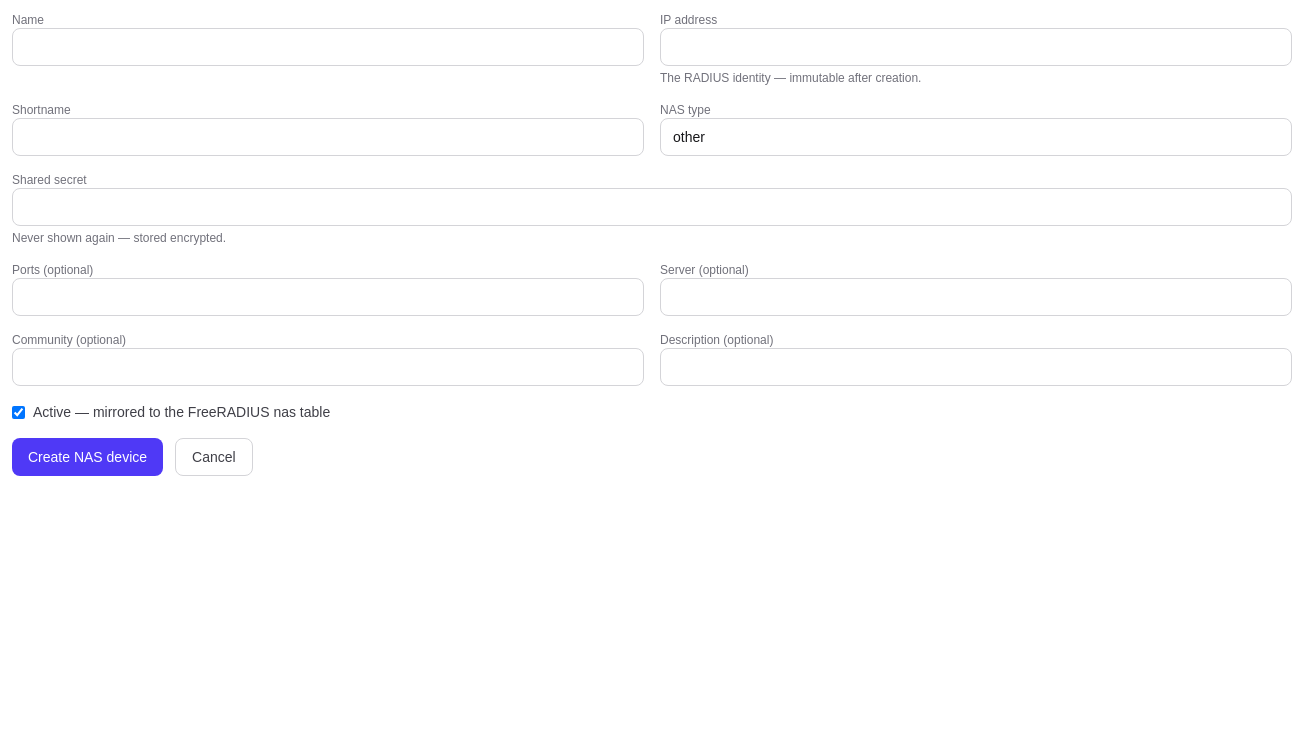
Test: NasDeviceForm (create) › validates required fields before submitting
Click the button "Create NAS device" at {"x": 88, "y": 457}, box [12,438,163,476]
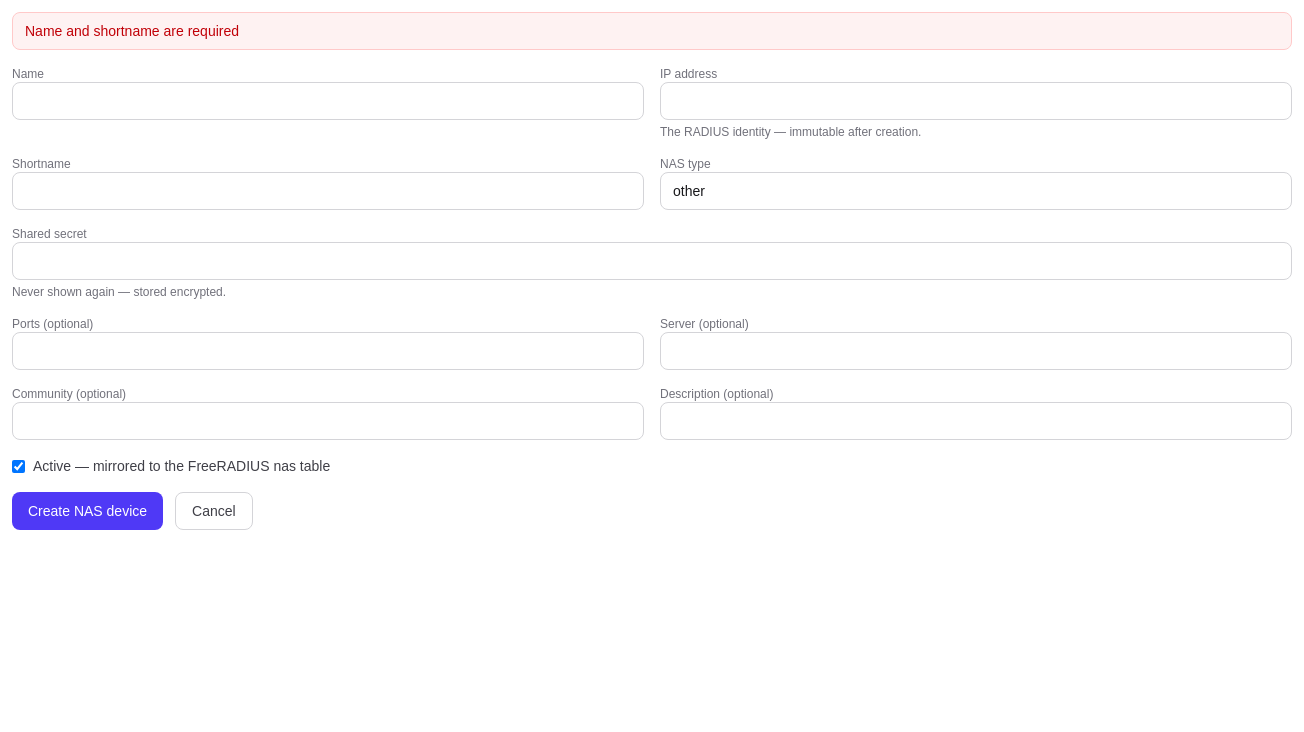
Result: the message reads "Name and shortname are required" at [25,23,239,39]
